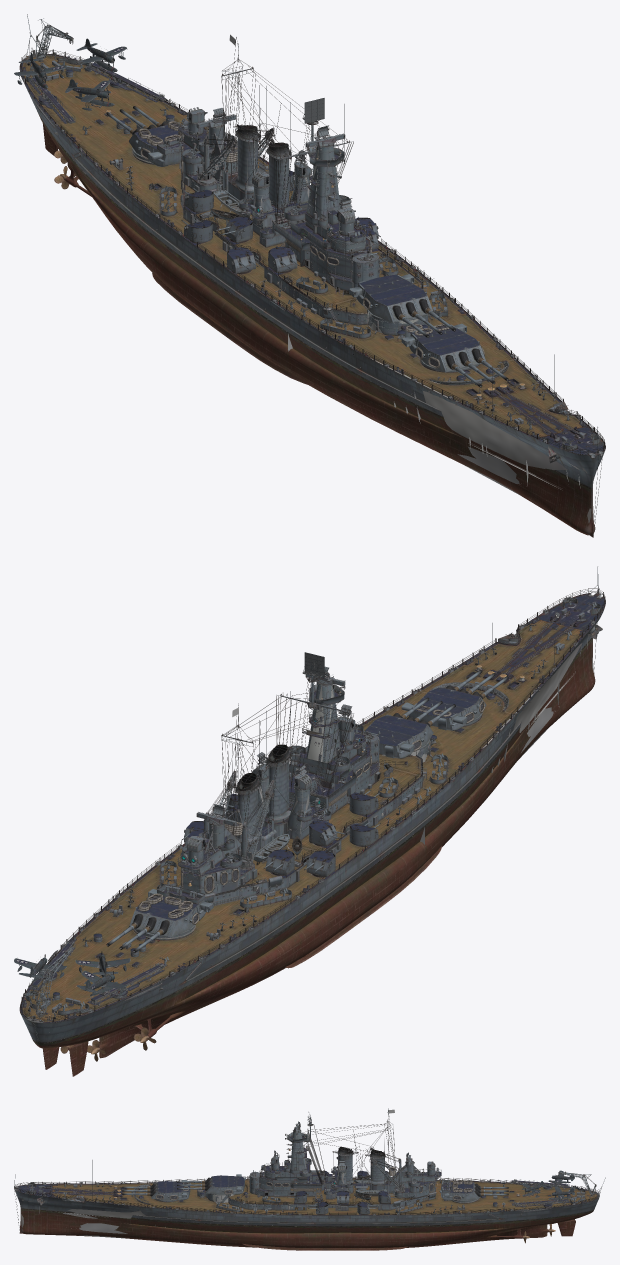
File: uss_north_carolina_war_thunder_heavy_cavalry-maximum-compressed.glb
The picture shows the model from 3 angles, top to bottom: view 1: azimuth 30°, elevation 25°; view 2: azimuth 150°, elevation 25°; view 3: azimuth 270°, elevation 25°; orthographic projection. The views are drawn at different scales.
Visible parts, largest first — view 1: Object_46, Object_63, Object_102, Object_4, Object_7, Object_28, Object_74, Object_29, Object_38, Object_16, Object_82, Object_91 (+19 smaller); view 2: Object_46, Object_63, Object_102, Object_4, Object_29, Object_28, Object_91, Object_7, Object_38, Object_74, Object_15, Object_16 (+19 smaller); view 3: Object_63, Object_46, Object_102, Object_4, Object_28, Object_74, Object_7, Object_29, Object_91, Object_16, Object_38, Object_86 (+26 smaller).
Part boxes in pixels (x1,y1,x2,y2): Object_46: [22, 55, 582, 437]; Object_63: [37, 111, 595, 537]; Object_102: [19, 53, 605, 488]; Object_4: [21, 25, 604, 452]; Object_7: [66, 121, 601, 523]; Object_28: [28, 56, 600, 446]; Object_74: [272, 217, 380, 290]; Object_29: [20, 54, 605, 455]; Object_38: [135, 125, 480, 355]; Object_16: [119, 106, 508, 387]; Object_82: [302, 104, 345, 224]; Object_91: [177, 118, 237, 194]; Object_46: [22, 620, 581, 1021]; Object_63: [32, 623, 595, 1076]; Object_102: [19, 592, 605, 1042]; Object_4: [21, 588, 604, 1020]; Object_29: [20, 593, 605, 1022]; Object_28: [22, 603, 584, 1007]; Object_91: [177, 822, 257, 905]; Object_7: [47, 594, 601, 1042]; Object_38: [135, 687, 480, 920]; Object_74: [289, 717, 380, 814]; Object_15: [129, 715, 433, 952]; Object_16: [106, 670, 508, 949]; Object_63: [20, 1190, 594, 1250]; Object_46: [52, 1178, 597, 1214]; Object_102: [14, 1181, 599, 1226]; Object_4: [15, 1111, 598, 1214]; Object_28: [27, 1136, 586, 1214]; Object_74: [249, 1165, 324, 1196]; Object_7: [21, 1131, 440, 1238]; Object_29: [16, 1180, 597, 1215]; Object_91: [393, 1162, 441, 1203]; Object_16: [122, 1180, 508, 1200]; Object_38: [157, 1175, 473, 1193]; Object_86: [365, 1147, 396, 1194].
Bounding box in the file's own units: 33.14 × 52.87 × 225.
Materials: 37 (37 with a texture image).
